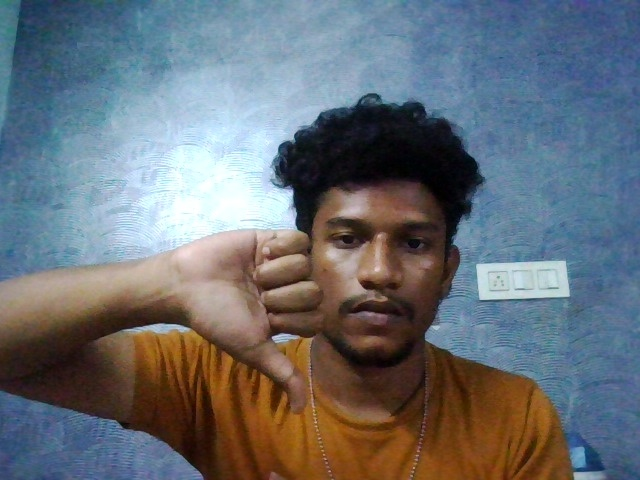no: (165, 204, 341, 431)
